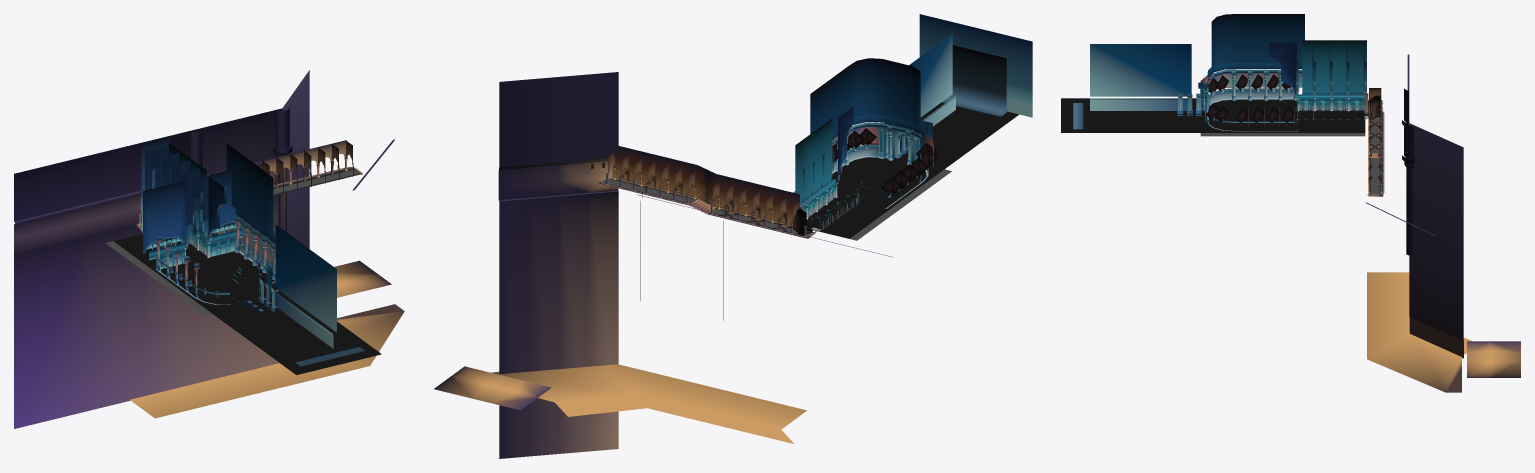
The model's file is 01Start.gltf.
3 views of the same model, side by side, from view 1: azimuth 30°, elevation 25°; view 2: azimuth 150°, elevation 25°; view 3: azimuth 270°, elevation 25° (orthographic). The views are drawn at different scales.
Visible parts, largest first — view 1: stg070_o01_Mesh_0044, stg070_o01_Mesh_0000, stg070_o01_Mesh_0064, stg070_k11_Mesh_0000, stg070_o01_Mesh_0023, stg070_o01_Mesh_0062, stg070_o01_Mesh_0040, stg070_w01_Mesh_0000, stg070_o03_Mesh_0091, stg070_o01_Mesh_0068, stg070_o01_Mesh_0070; view 2: stg070_o01_Mesh_0044, stg070_o01_Mesh_0000, stg070_k11_Mesh_0000, stg070_o01_Mesh_0064, stg070_o01_Mesh_0023, stg070_w01_Mesh_0000, stg070_o03_Mesh_0091, stg070_o01_Mesh_0062, stg070_o01_Mesh_0068; view 3: stg070_o01_Mesh_0064, stg070_o01_Mesh_0000, stg070_k11_Mesh_0000, stg070_o01_Mesh_0044, stg070_o01_Mesh_0023, stg070_o01_Mesh_0062, stg070_w01_Mesh_0000, stg070_p03_Mesh_0008, stg070_o01_Mesh_0068.
Boxes of the visible parts, <box> form: stg070_o01_Mesh_0044: <box>14,108,282,428</box>; stg070_o01_Mesh_0000: <box>130,148,404,418</box>; stg070_o01_Mesh_0064: <box>14,70,336,348</box>; stg070_k11_Mesh_0000: <box>113,161,381,374</box>; stg070_o01_Mesh_0023: <box>14,139,394,335</box>; stg070_o01_Mesh_0062: <box>138,108,353,292</box>; stg070_o01_Mesh_0040: <box>145,145,275,300</box>; stg070_w01_Mesh_0000: <box>105,169,360,315</box>; stg070_o03_Mesh_0091: <box>140,140,352,208</box>; stg070_o01_Mesh_0068: <box>141,136,275,243</box>; stg070_o01_Mesh_0070: <box>142,217,275,309</box>; stg070_o01_Mesh_0044: <box>498,14,1032,458</box>; stg070_o01_Mesh_0000: <box>434,106,928,443</box>; stg070_k11_Mesh_0000: <box>519,45,1018,238</box>; stg070_o01_Mesh_0064: <box>612,33,1032,222</box>; stg070_o01_Mesh_0023: <box>499,95,1032,257</box>; stg070_w01_Mesh_0000: <box>599,169,951,240</box>; stg070_o03_Mesh_0091: <box>608,151,799,225</box>; stg070_o01_Mesh_0062: <box>606,134,921,320</box>; stg070_o01_Mesh_0068: <box>832,83,1032,141</box>; stg070_o01_Mesh_0064: <box>1090,40,1463,340</box>; stg070_o01_Mesh_0000: <box>1177,42,1520,392</box>; stg070_k11_Mesh_0000: <box>1061,74,1381,187</box>; stg070_o01_Mesh_0044: <box>1177,14,1364,122</box>; stg070_o01_Mesh_0023: <box>1090,44,1435,236</box>; stg070_o01_Mesh_0062: <box>1202,80,1413,255</box>; stg070_w01_Mesh_0000: <box>1200,114,1383,195</box>; stg070_p03_Mesh_0008: <box>1409,317,1463,358</box>; stg070_o01_Mesh_0068: <box>1207,63,1302,78</box>.
Bounding box in the file's own units: 236 × 215 × 274.
